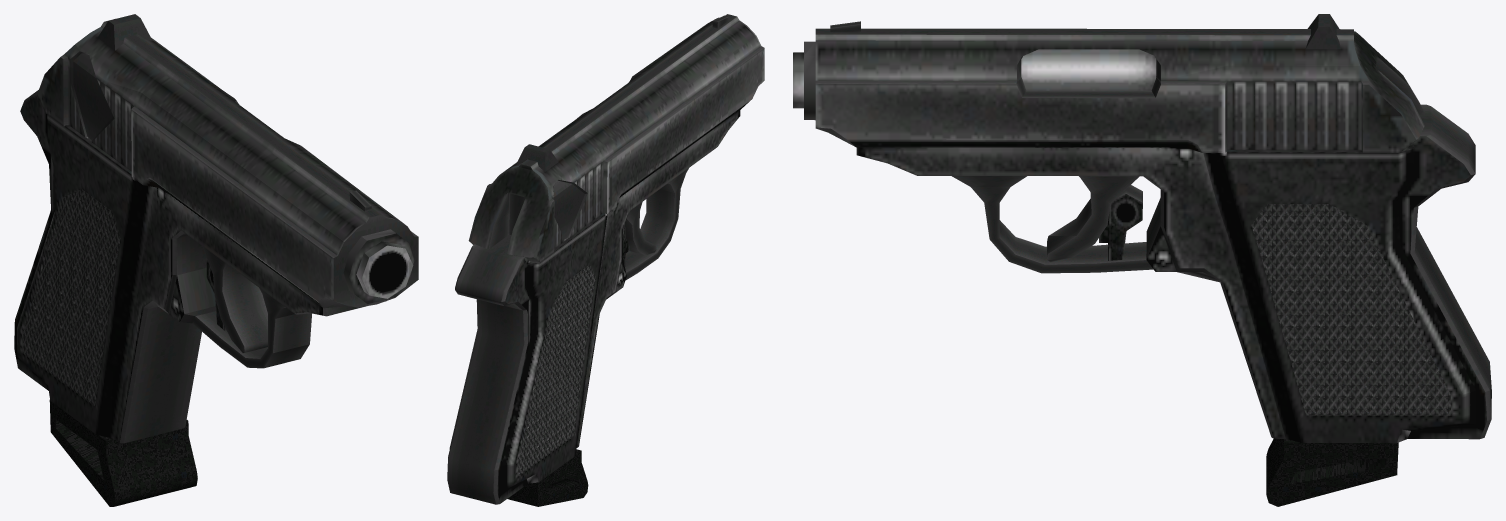
Rendered from gun.glb.
The picture shows the model from 3 angles, left to right: view 1: azimuth 30°, elevation 25°; view 2: azimuth 150°, elevation 25°; view 3: azimuth 270°, elevation 25°; orthographic projection. The views are drawn at different scales.
Visible parts, largest first — view 1: Mesh_0044; view 2: Mesh_0044; view 3: Mesh_0044.
Part boxes in pixels (<box>): Mesh_0044: <box>14,14,418,506</box>; Mesh_0044: <box>447,14,764,506</box>; Mesh_0044: <box>793,14,1491,506</box>.
Bounding box in the file's own units: 0.0455 × 0.2275 × 0.3097.
5 materials, 5 textured.
